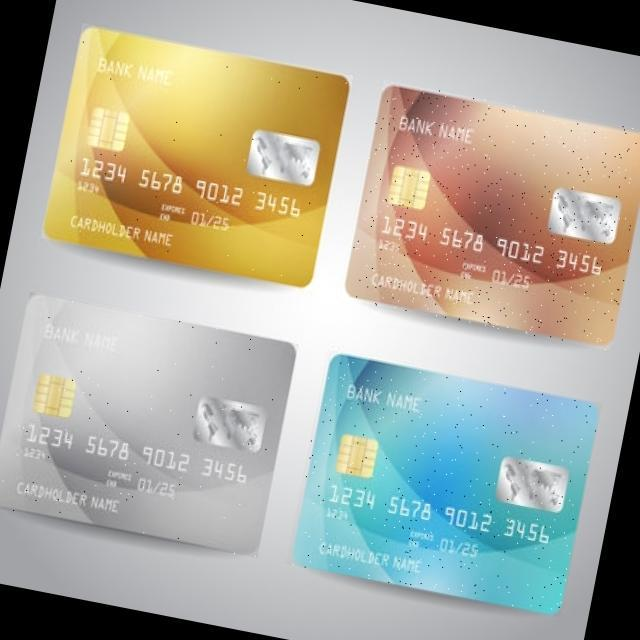payment_card: (292, 352, 600, 616), (45, 27, 350, 287), (345, 83, 639, 346), (0, 292, 296, 551)
